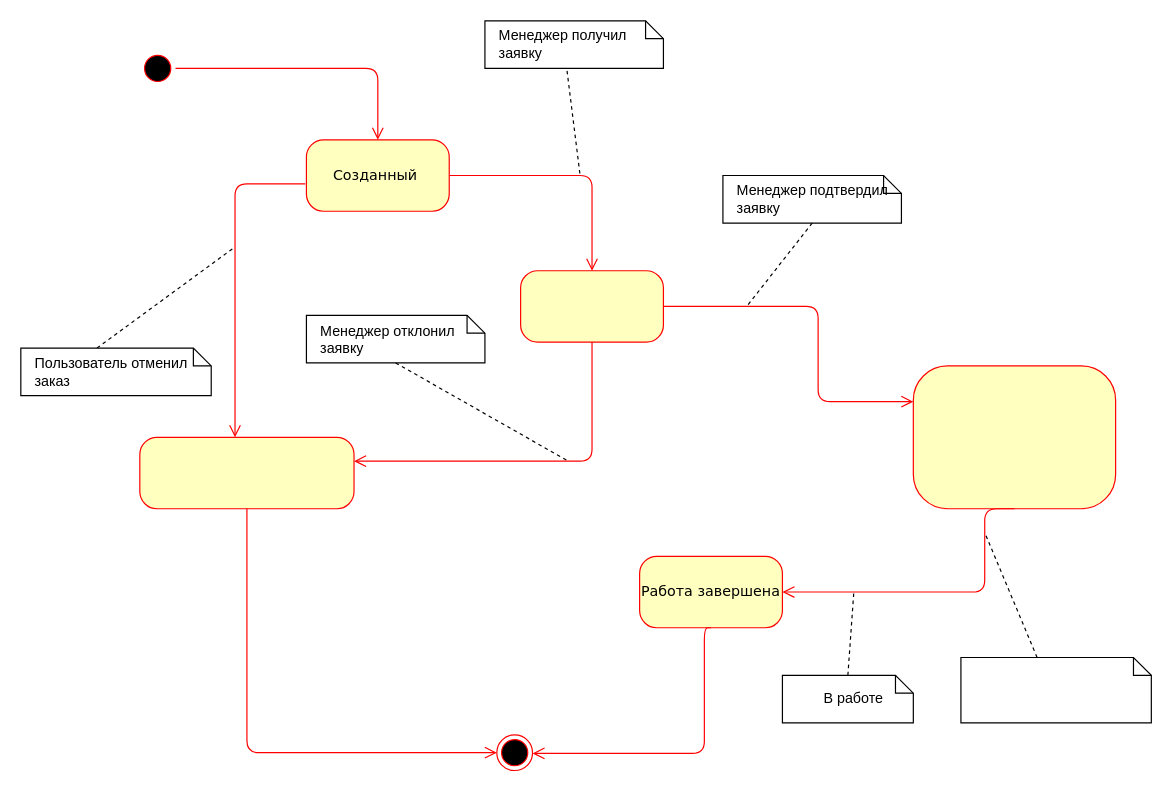
The diagram is 1172 pixels wide and 791 high, and some of its shapes have lost their labels. Each missing label, with the centre of its shape:
Canceled entry: удалить заявку из очереди записи в базу данных: point 246,472
Занесение заявки в базу данных: point 1014,437
Мастер и пользователь получили уведомление: point 1055,689
Ожидание подтверждения: point 591,306
